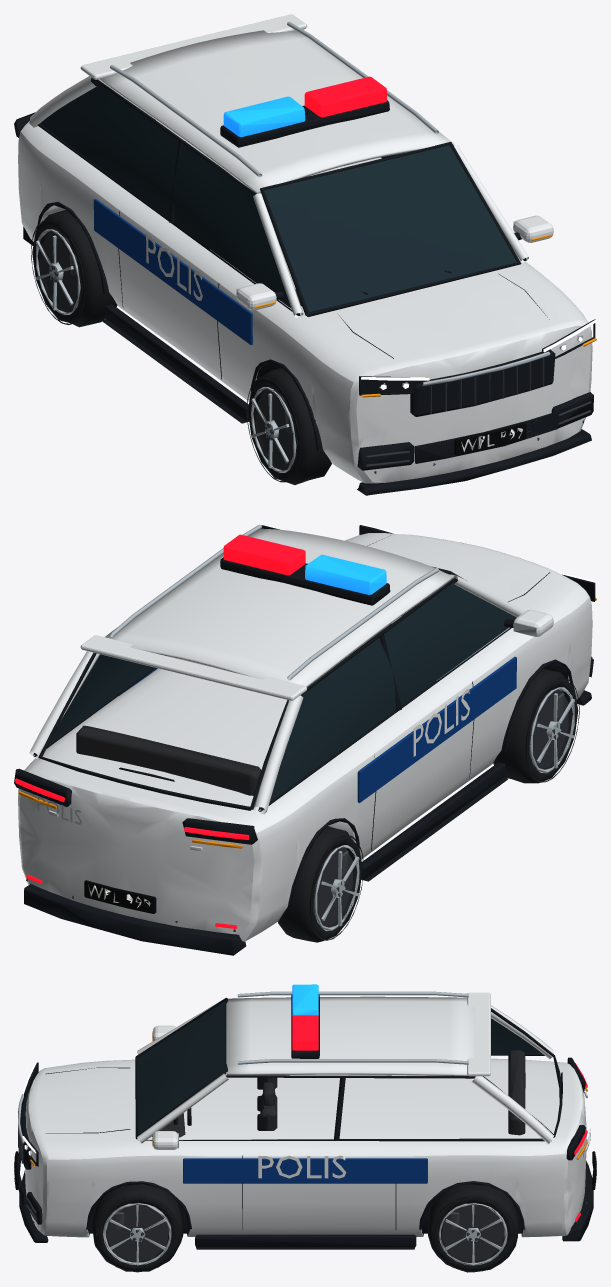
Rendered from police-mid.glb.
3 views of the same model, one above another, from view 1: azimuth 30°, elevation 25°; view 2: azimuth 150°, elevation 25°; view 3: azimuth 270°, elevation 25° (orthographic). The views are drawn at different scales.
Parts seen in each view (by area): view 1: chassis.001__Automotive clearcoat, chassis.001__Solar glass, chassis.001__Satin black trim, chassis.001__Police blue, wheel_RL.001__Tyre rubber, wheel_FL.001__Tyre rubber, chassis.001__Machined aluminium, chassis.001__Red LED optics, chassis.001__Police blue LED, wheel_RL.001__Graphite alloy, wheel_FL.001__Graphite alloy, wheel_FL.001__Machined aluminium (+4 smaller); view 2: chassis.001__Automotive clearcoat, chassis.001__Solar glass, chassis.001__Satin black trim, chassis.001__Charcoal upholstery, chassis.001__Police blue, wheel_RL.001__Tyre rubber, wheel_FL.001__Tyre rubber, chassis.001__Red LED optics, chassis.001__Machined aluminium, chassis.001__Police blue LED, wheel_RL.001__Graphite alloy, wheel_FL.001__Graphite alloy (+4 smaller); view 3: chassis.001__Automotive clearcoat, chassis.001__Satin black trim, chassis.001__Solar glass, chassis.001__Police blue, wheel_RR.001__Tyre rubber, wheel_FR.001__Tyre rubber, wheel_RR.001__Graphite alloy, wheel_FR.001__Graphite alloy, chassis.001__Charcoal upholstery, chassis.001__Machined aluminium, wheel_FR.001__Machined aluminium, chassis.001__Red LED optics (+3 smaller).
Boxes of the visible parts, left/top/right/bottom form: chassis.001__Automotive clearcoat: left=18, top=14, right=592, bottom=483; chassis.001__Solar glass: left=40, top=82, right=516, bottom=314; chassis.001__Satin black trim: left=14, top=77, right=595, bottom=495; chassis.001__Police blue: left=93, top=157, right=382, bottom=344; wheel_RL.001__Tyre rubber: left=31, top=209, right=117, bottom=327; wheel_FL.001__Tyre rubber: left=246, top=367, right=331, bottom=484; chassis.001__Machined aluminium: left=110, top=21, right=583, bottom=390; chassis.001__Red LED optics: left=304, top=76, right=386, bottom=117; chassis.001__Police blue LED: left=223, top=96, right=305, bottom=137; wheel_RL.001__Graphite alloy: left=41, top=232, right=81, bottom=310; wheel_FL.001__Graphite alloy: left=257, top=389, right=297, bottom=468; wheel_FL.001__Machined aluminium: left=251, top=387, right=296, bottom=472; chassis.001__Automotive clearcoat: left=18, top=528, right=592, bottom=941; chassis.001__Solar glass: left=49, top=581, right=516, bottom=809; chassis.001__Satin black trim: left=14, top=525, right=595, bottom=955; chassis.001__Charcoal upholstery: left=76, top=613, right=405, bottom=795; chassis.001__Police blue: left=120, top=656, right=516, bottom=803; wheel_RL.001__Tyre rubber: left=278, top=826, right=363, bottom=942; wheel_FL.001__Tyre rubber: left=493, top=668, right=579, bottom=783; chassis.001__Red LED optics: left=15, top=534, right=305, bottom=928; chassis.001__Machined aluminium: left=34, top=524, right=536, bottom=824; chassis.001__Police blue LED: left=305, top=554, right=386, bottom=594; wheel_RL.001__Graphite alloy: left=313, top=847, right=352, bottom=926; wheel_FL.001__Graphite alloy: left=528, top=689, right=568, bottom=768; chassis.001__Automotive clearcoat: left=25, top=992, right=586, bottom=1237; chassis.001__Satin black trim: left=17, top=994, right=593, bottom=1249; chassis.001__Solar glass: left=138, top=1001, right=541, bottom=1134; chassis.001__Police blue: left=183, top=1158, right=427, bottom=1183; wheel_RR.001__Tyre rubber: left=428, top=1184, right=518, bottom=1272; wheel_FR.001__Tyre rubber: left=92, top=1184, right=183, bottom=1272; wheel_RR.001__Graphite alloy: left=441, top=1204, right=504, bottom=1261; wheel_FR.001__Graphite alloy: left=106, top=1204, right=168, bottom=1261; chassis.001__Charcoal upholstery: left=152, top=1050, right=525, bottom=1137; chassis.001__Machined aluminium: left=18, top=991, right=590, bottom=1157; wheel_FR.001__Machined aluminium: left=103, top=1203, right=171, bottom=1265; chassis.001__Red LED optics: left=292, top=1015, right=587, bottom=1221.
Size of the model in its own units: 2.18 by 1.85 by 4.64.
